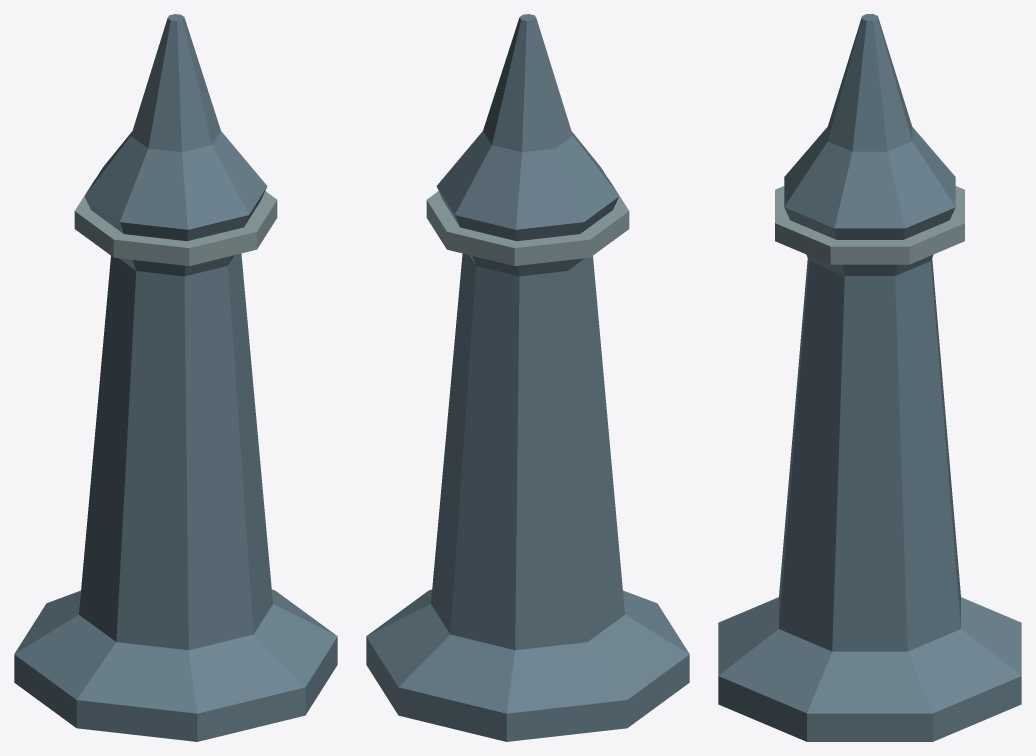
The model's file is SM_ELY_BLD_003_ControlSpire.glb.
3 views of the same model, side by side, from view 1: azimuth 30°, elevation 25°; view 2: azimuth 150°, elevation 25°; view 3: azimuth 270°, elevation 25° (orthographic).
Visible parts, largest first — view 1: SM_ELY_BLD_003_ControlSpire; view 2: SM_ELY_BLD_003_ControlSpire; view 3: SM_ELY_BLD_003_ControlSpire.
Boxes of the visible parts, <box> form: SM_ELY_BLD_003_ControlSpire: <box>14,14,337,741</box>; SM_ELY_BLD_003_ControlSpire: <box>366,14,689,741</box>; SM_ELY_BLD_003_ControlSpire: <box>718,14,1021,741</box>.
Bounding box in the file's own units: 2.12 × 5.1 × 2.12.
